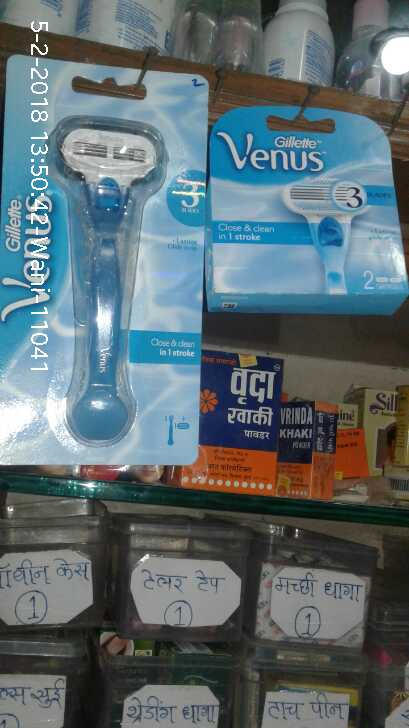venus: (2, 56, 202, 468), (209, 103, 408, 318)
